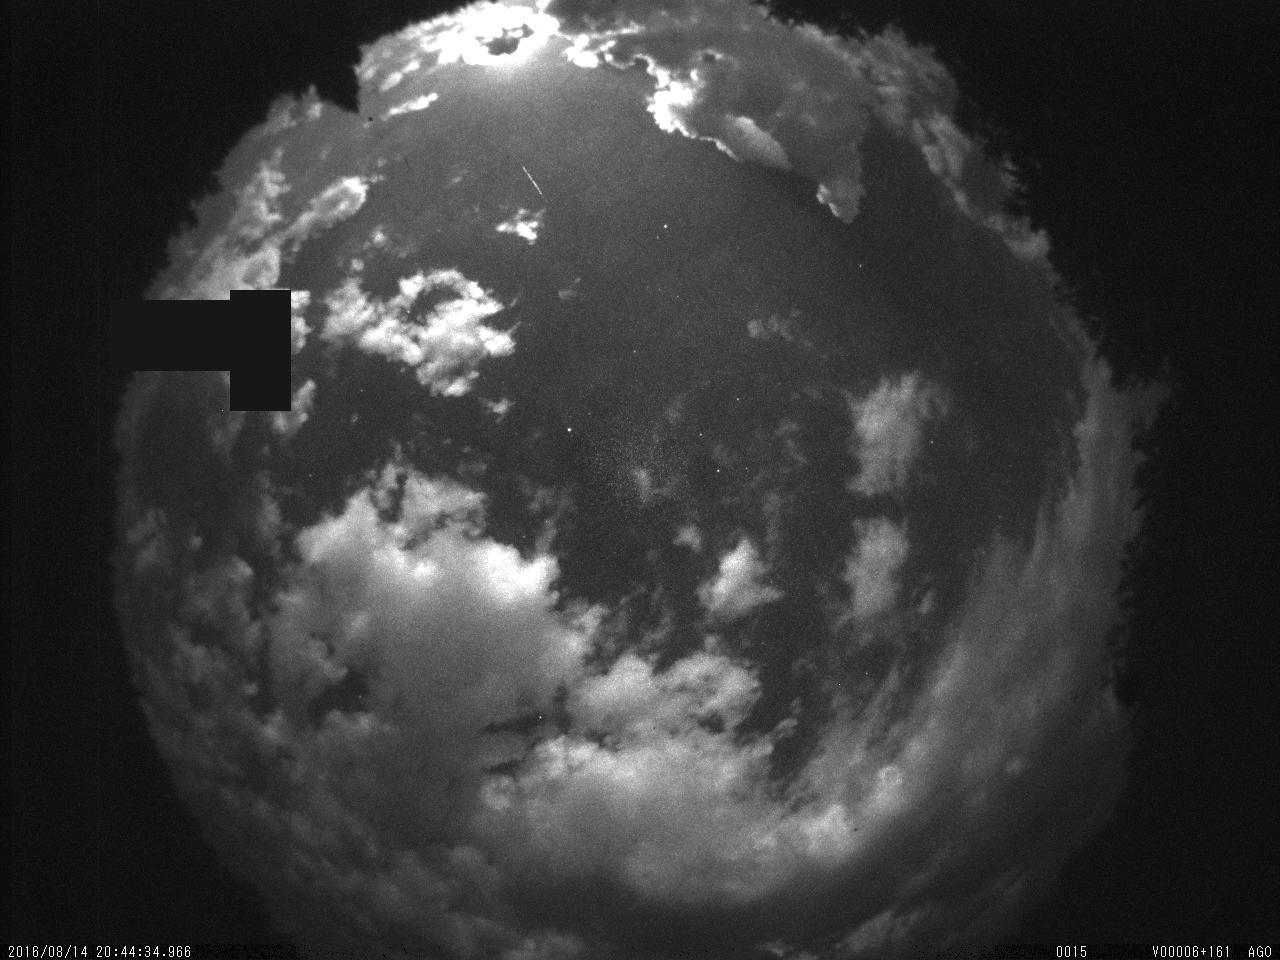meteor: (510, 148, 558, 218)
